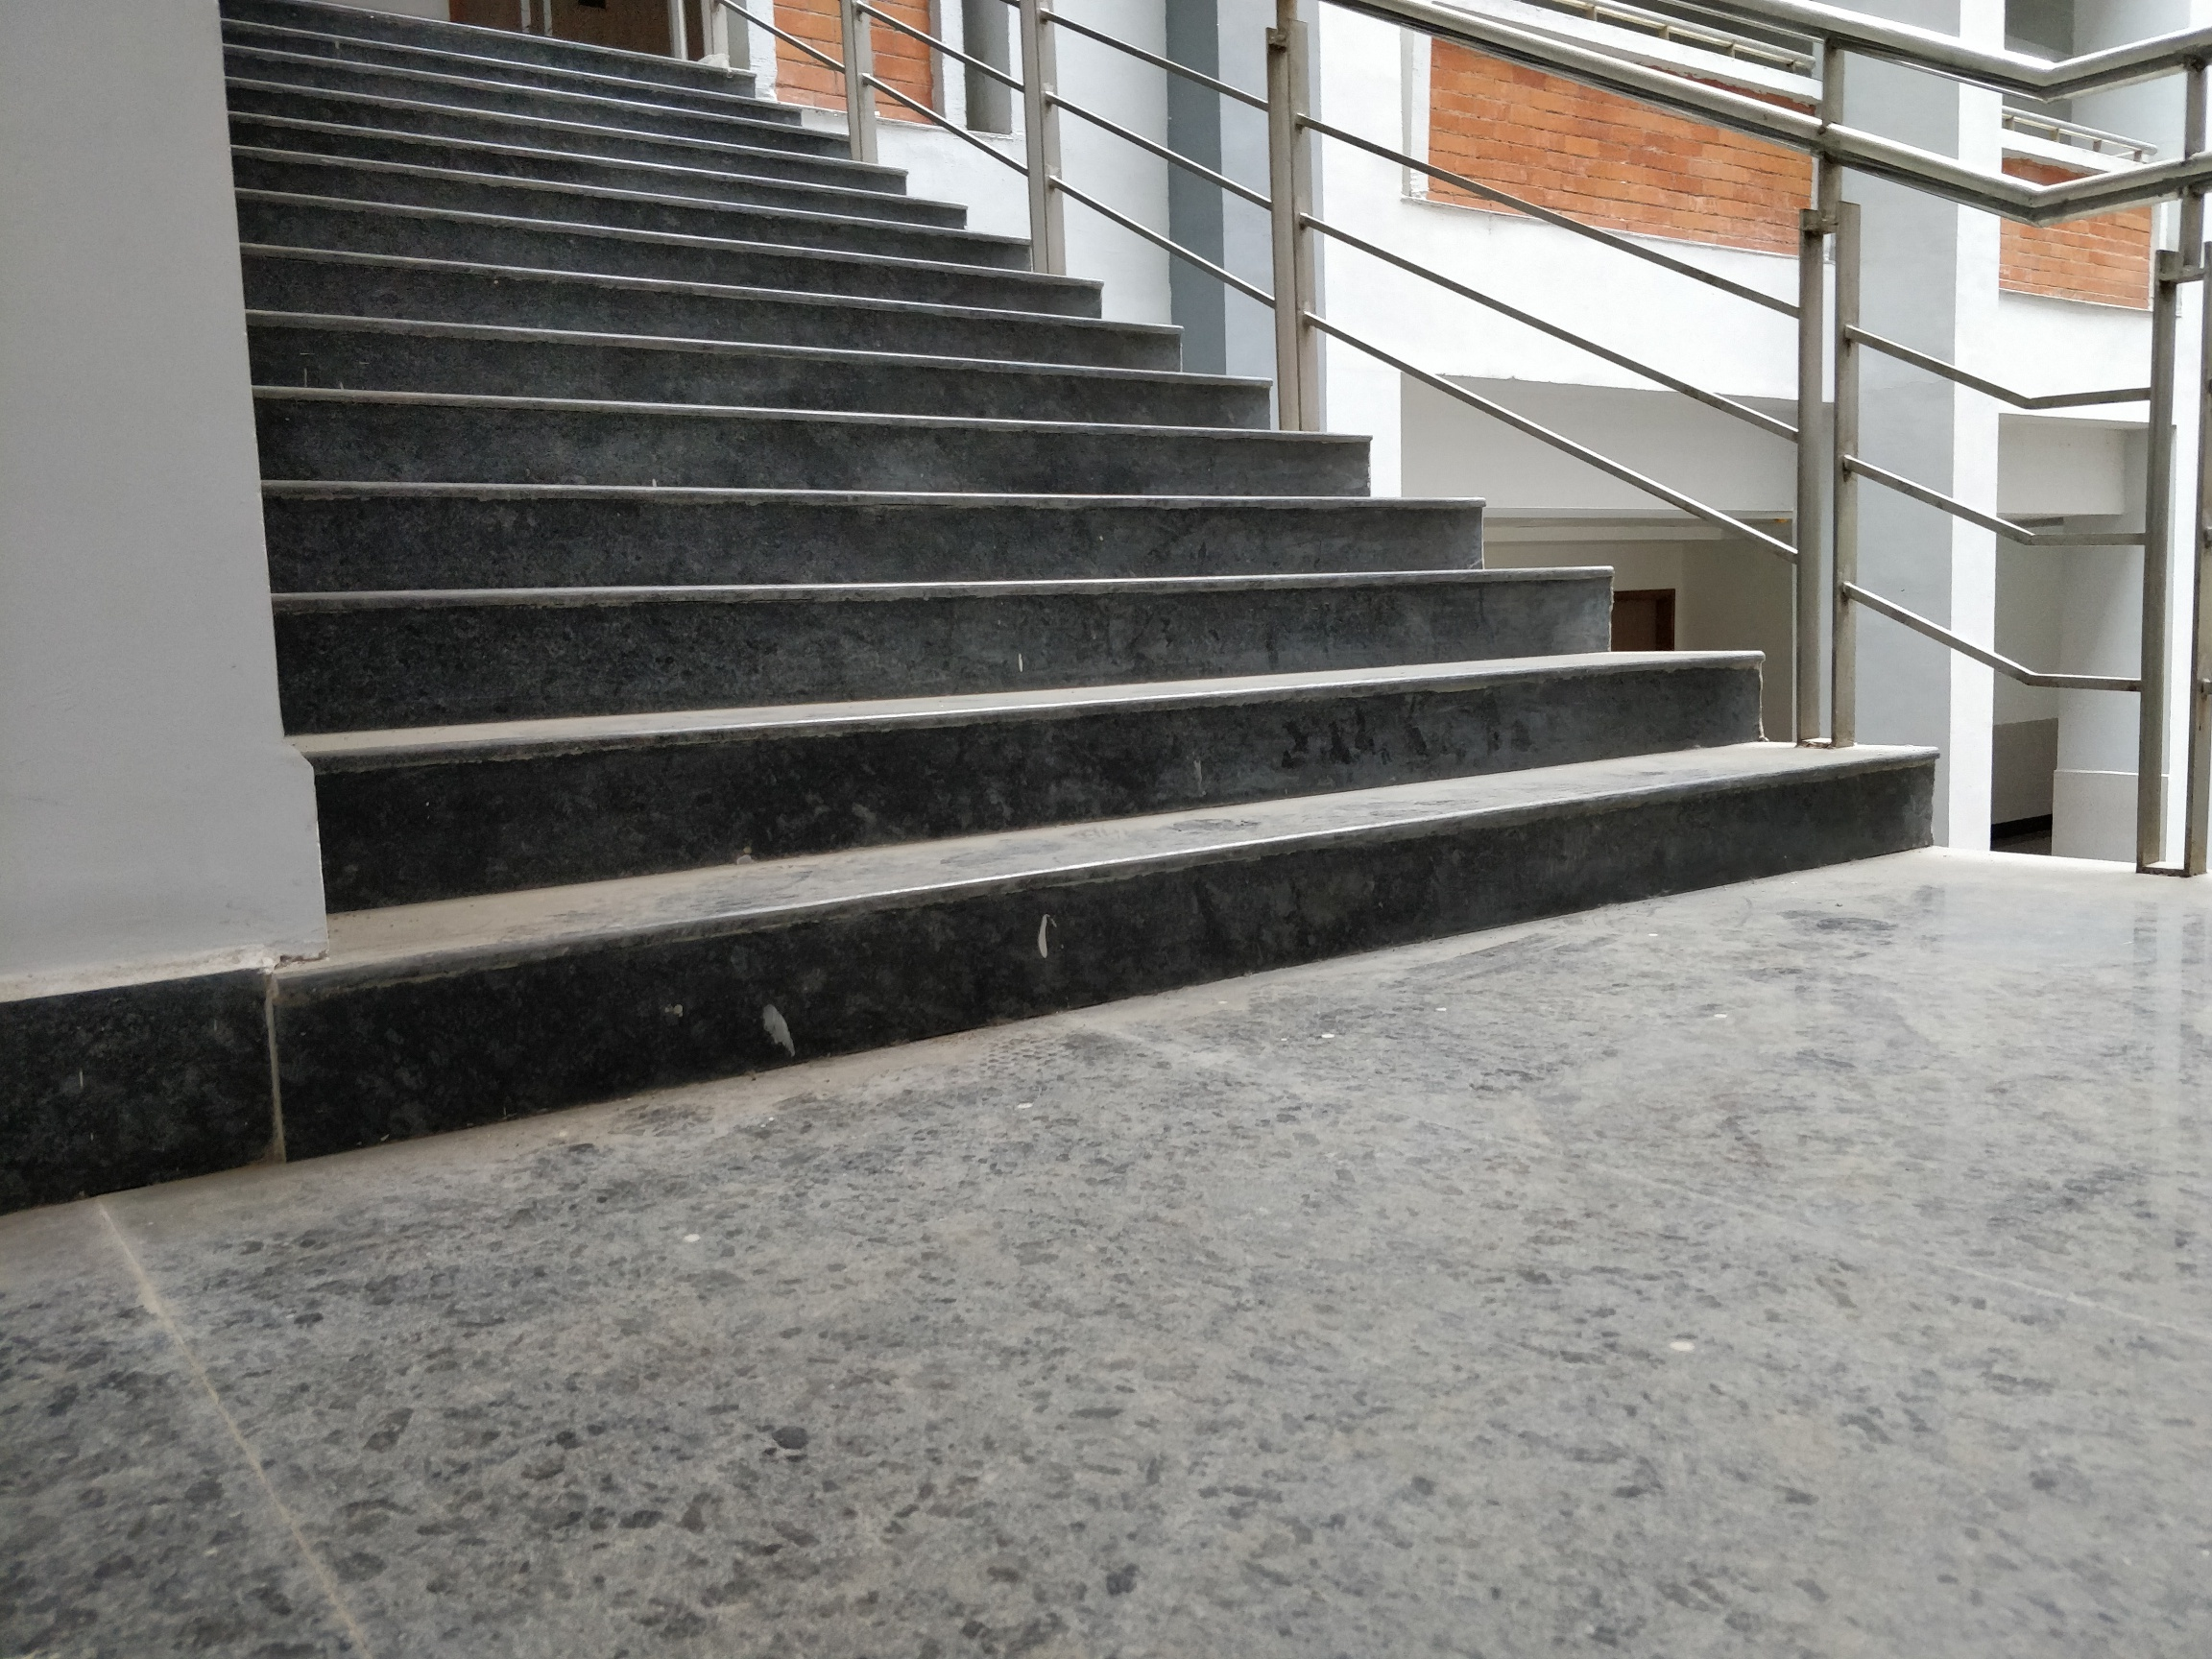stairs_up: (240, 98, 1799, 917)
